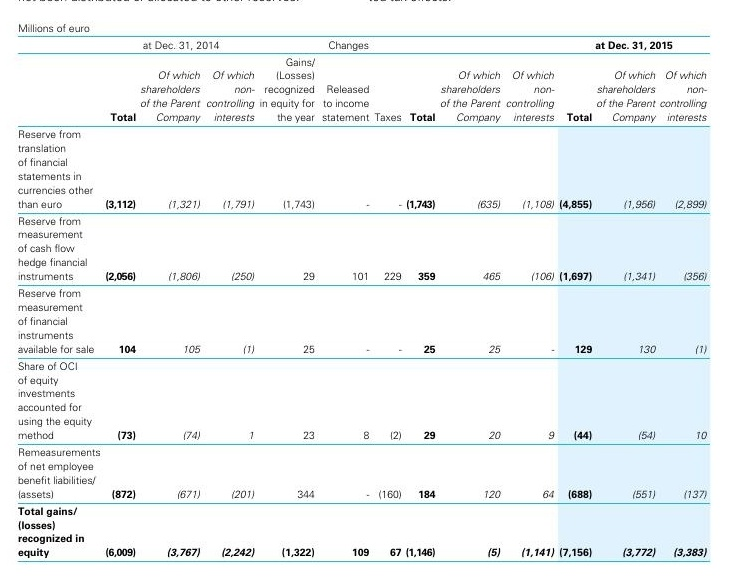table: (0, 0, 729, 583)
